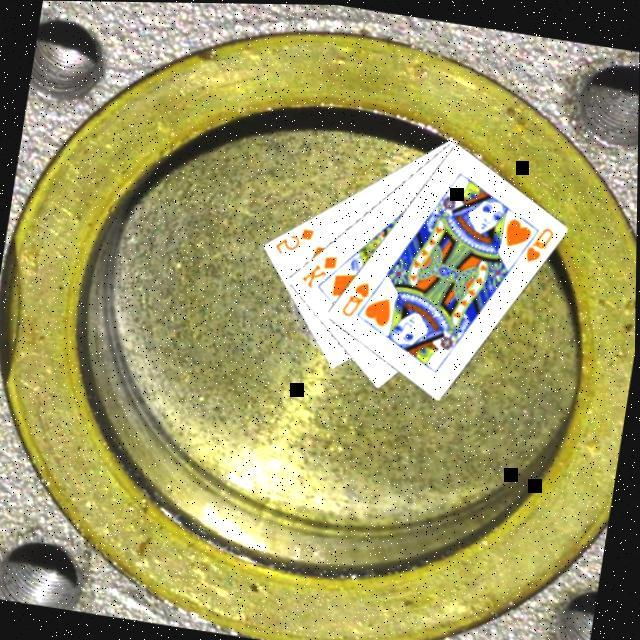5D: (272, 218, 319, 260)
KD: (298, 245, 344, 293)
QH: (513, 217, 560, 266), (338, 273, 376, 320)
